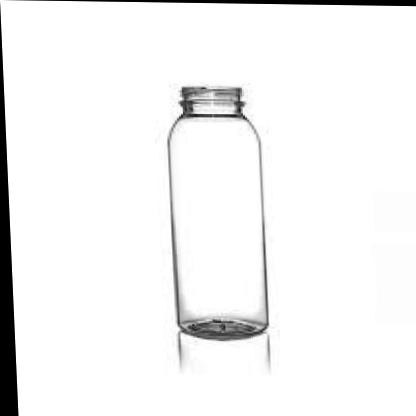trash: (168, 87, 267, 339)
